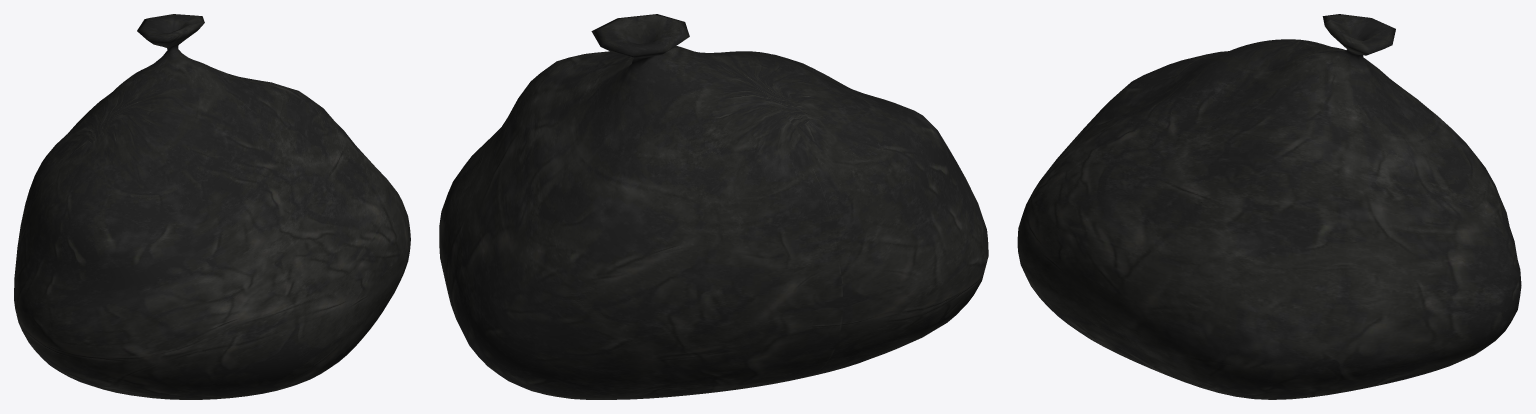
Rendered from garbage_bag.glb.
3 views of the same model, side by side, from view 1: azimuth 30°, elevation 25°; view 2: azimuth 150°, elevation 25°; view 3: azimuth 270°, elevation 25° (orthographic). The views are drawn at different scales.
Parts seen in each view (by area): view 1: Sphere; view 2: Sphere; view 3: Sphere.
Part boxes in pixels (bbox=[...]): Sphere: bbox=[14, 14, 410, 399]; Sphere: bbox=[439, 14, 988, 399]; Sphere: bbox=[1017, 14, 1521, 399].
Size of the model in its own units: 2.7 by 1.91 by 2.73.
1 material, 1 textured.
